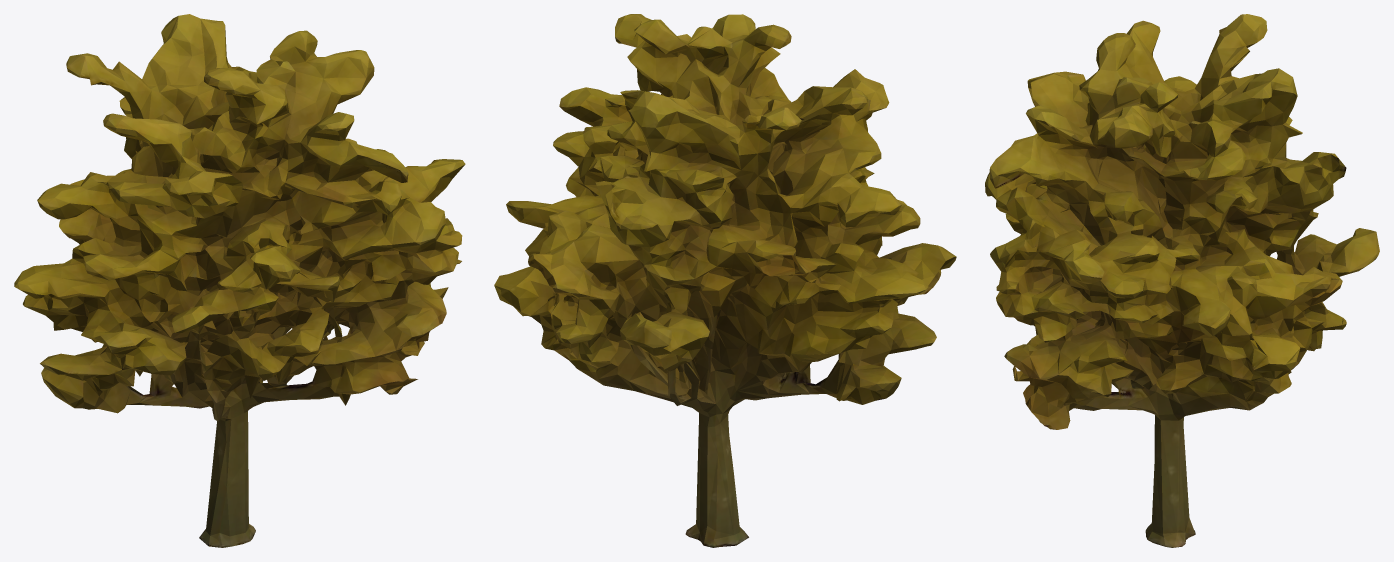
The model's file is tree_autumn_yellow.glb.
The picture shows the model from 3 angles, left to right: view 1: azimuth 30°, elevation 25°; view 2: azimuth 150°, elevation 25°; view 3: azimuth 270°, elevation 25°; orthographic projection. The views are drawn at different scales.
Visible parts, largest first — view 1: geometry_0; view 2: geometry_0; view 3: geometry_0.
Boxes of the visible parts, <box> form: geometry_0: <box>14,14,465,547</box>; geometry_0: <box>494,14,956,547</box>; geometry_0: <box>985,14,1379,547</box>.
Bounding box in the file's own units: 0.8613 × 1 × 0.7398.
1 material, 1 textured.
